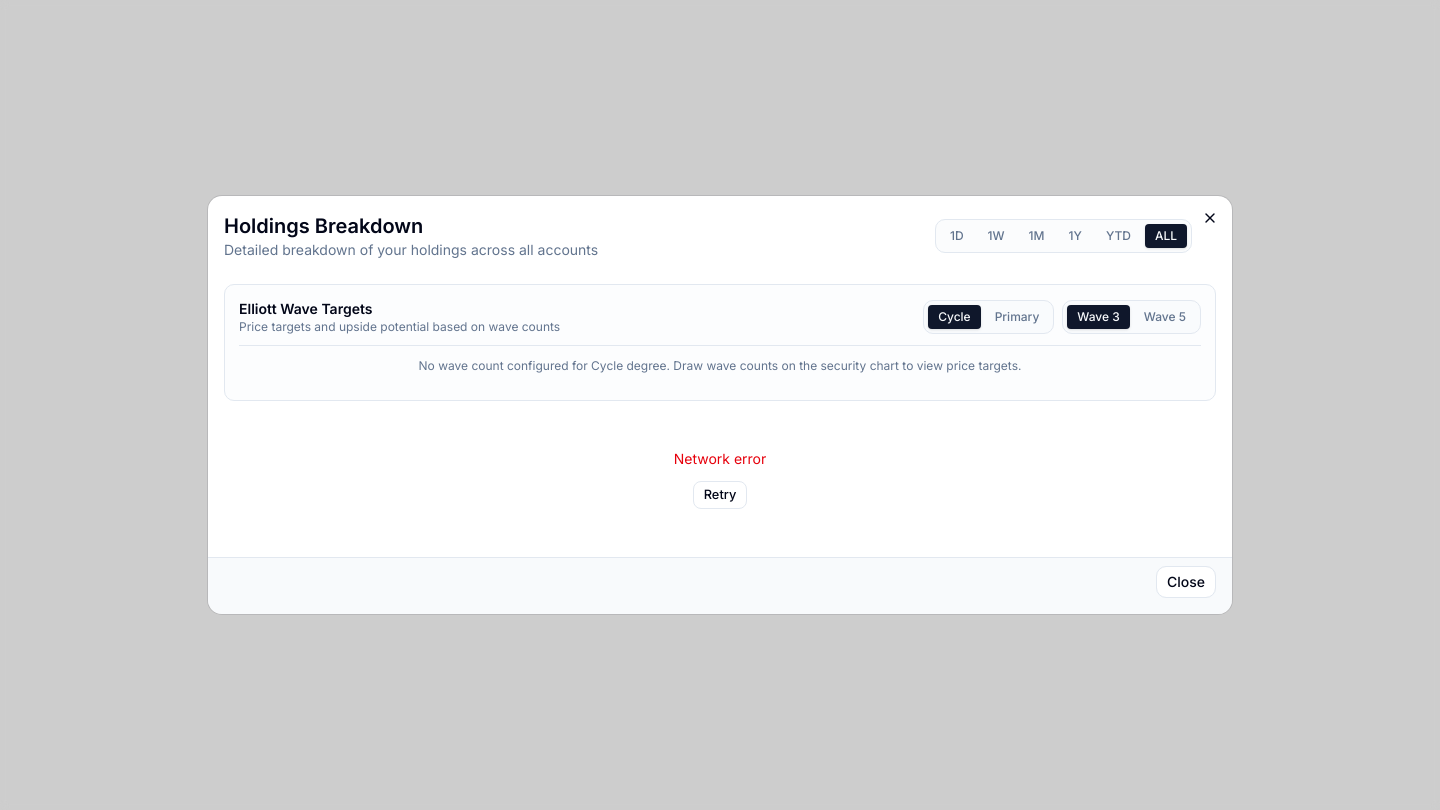
it: HoldingsModal Component › Data fetching & states › shows error state with retry button on API failure and retries on click
Expected: the text "Network error" is shown, [674,449,766,469]
Step 1. Click the button "Retry" → (720, 495), box [693,481,747,509]
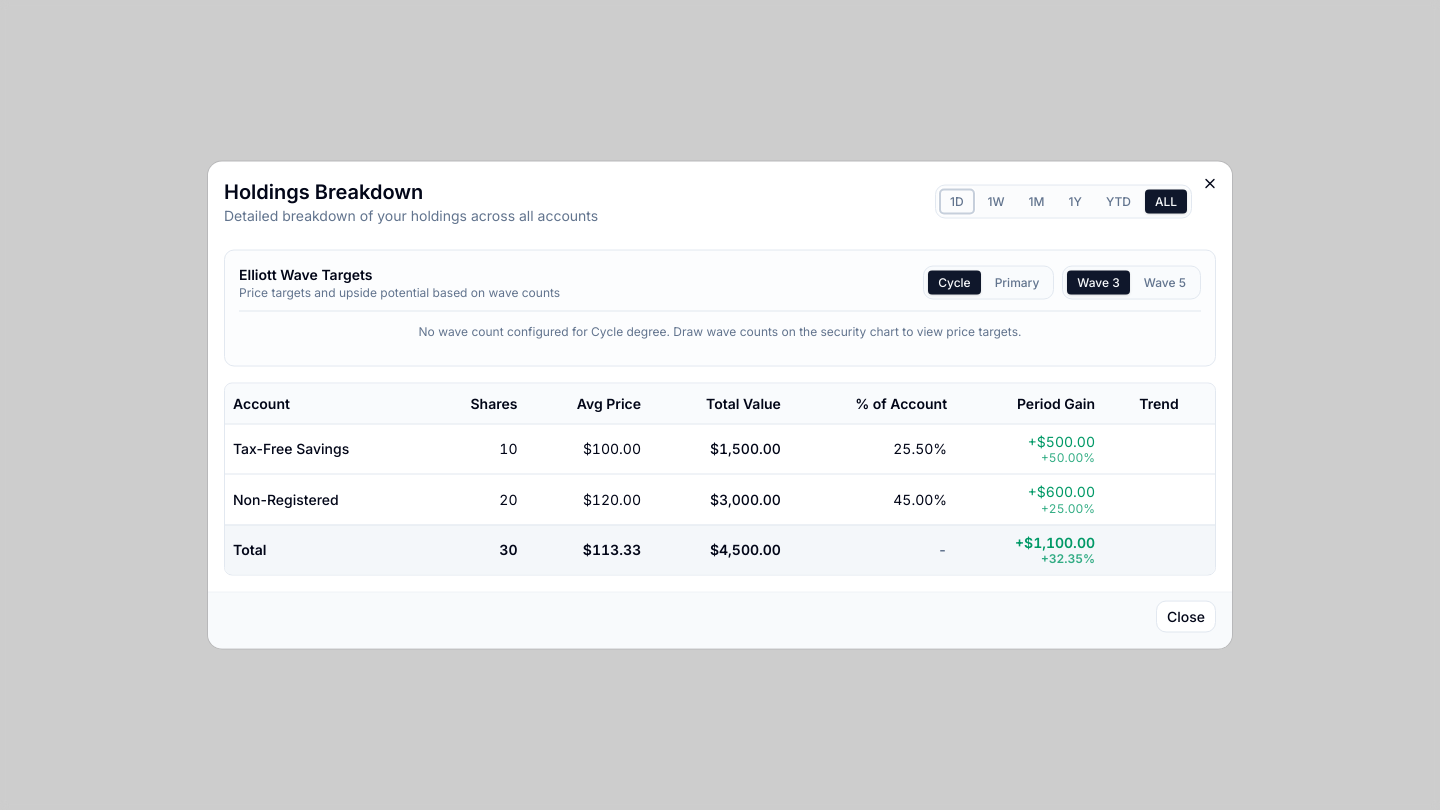
Now the link "Tax-Free Savings" is shown, box [233,440,349,457]
